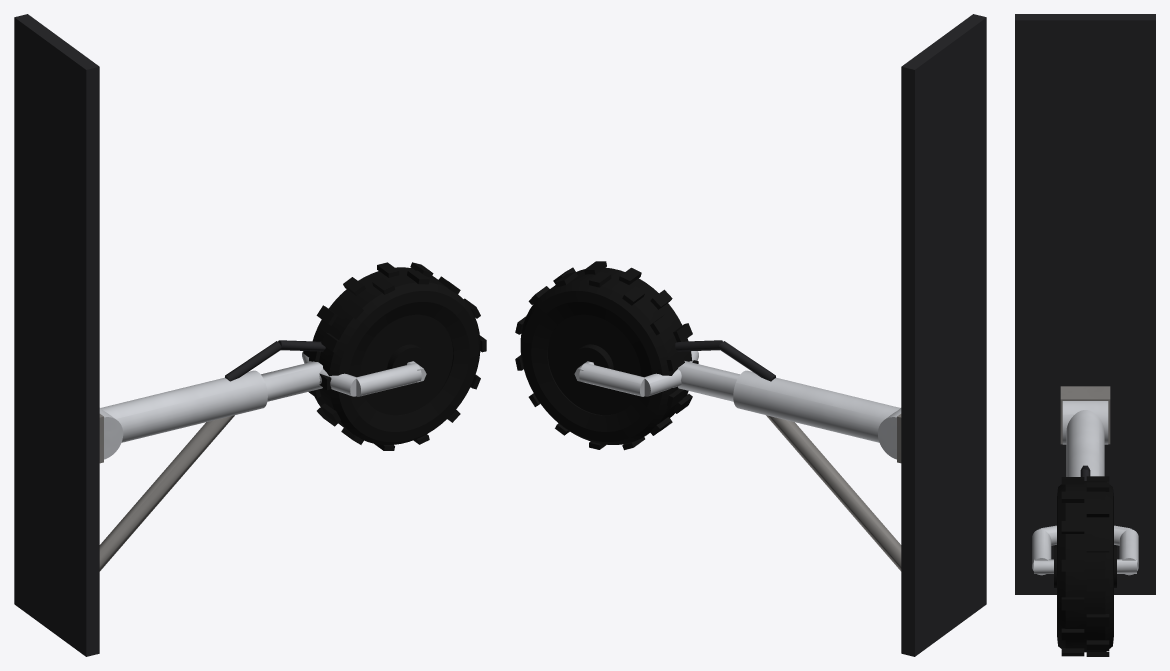
The model's file is jet10_landing_gear_s_deployed.glb.
The picture shows the model from 3 angles, left to right: view 1: azimuth 30°, elevation 25°; view 2: azimuth 150°, elevation 25°; view 3: azimuth 270°, elevation 25°; orthographic projection. The views are drawn at different scales.
Parts seen in each view (by area): view 1: mount_plate, wheel_1, oleo_strut, drag_brace, fork, torque_links; view 2: mount_plate, wheel_1, oleo_strut, drag_brace, fork, torque_links; view 3: mount_plate, wheel_1, oleo_strut, fork, trunnion, axle.
Part boxes in pixels (x1,y1,x2,y2): mount_plate: (14, 14, 99, 656); wheel_1: (303, 262, 486, 450); oleo_strut: (99, 361, 323, 459); drag_brace: (99, 415, 234, 571); fork: (302, 351, 421, 396); torque_links: (225, 340, 325, 381); mount_plate: (901, 14, 986, 656); wheel_1: (515, 261, 698, 450); oleo_strut: (678, 361, 901, 459); drag_brace: (766, 415, 901, 571); fork: (579, 351, 698, 396); torque_links: (675, 340, 775, 381); mount_plate: (1015, 14, 1155, 594); wheel_1: (1054, 476, 1116, 656); oleo_strut: (1062, 401, 1108, 476); fork: (1032, 525, 1138, 575); trunnion: (1060, 386, 1110, 444); axle: (1034, 559, 1136, 573).
Size of the model in its own units: 1.26 by 1.67 by 0.37.
4 materials, 2 textured.
